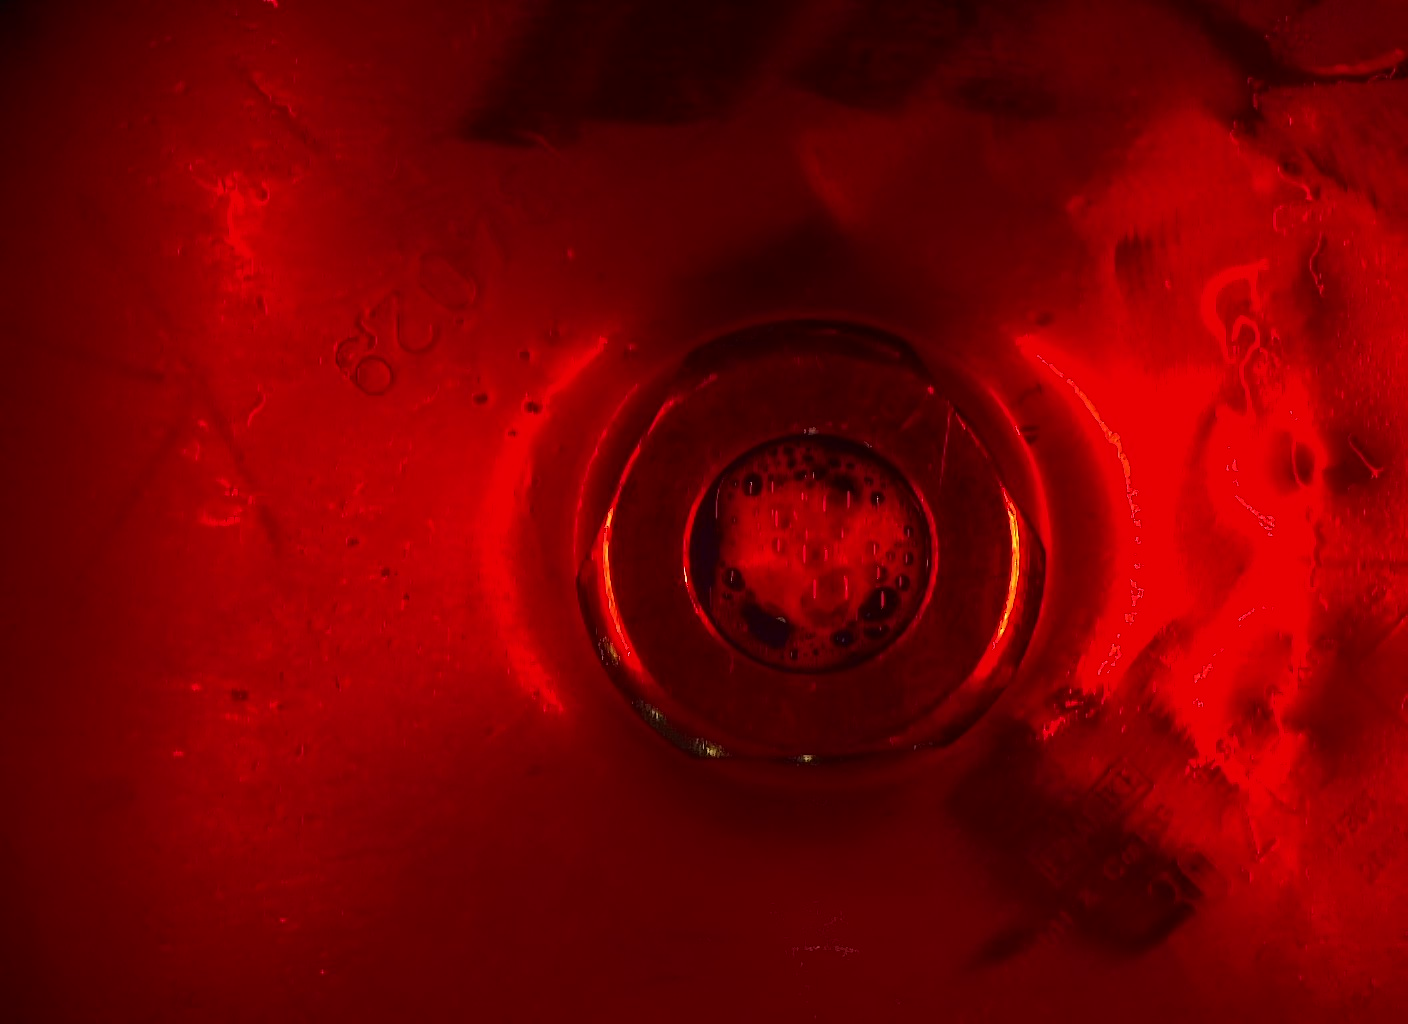pena: (699, 438, 919, 684)
